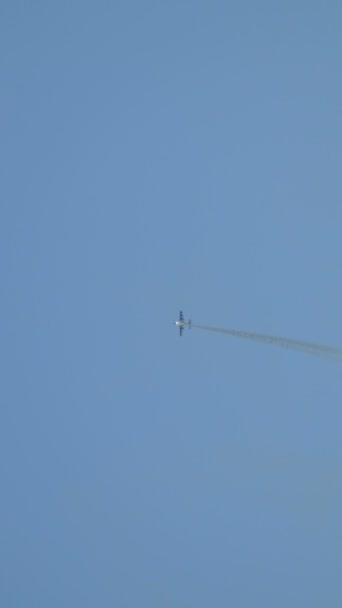Plane: (168, 301, 198, 348)
